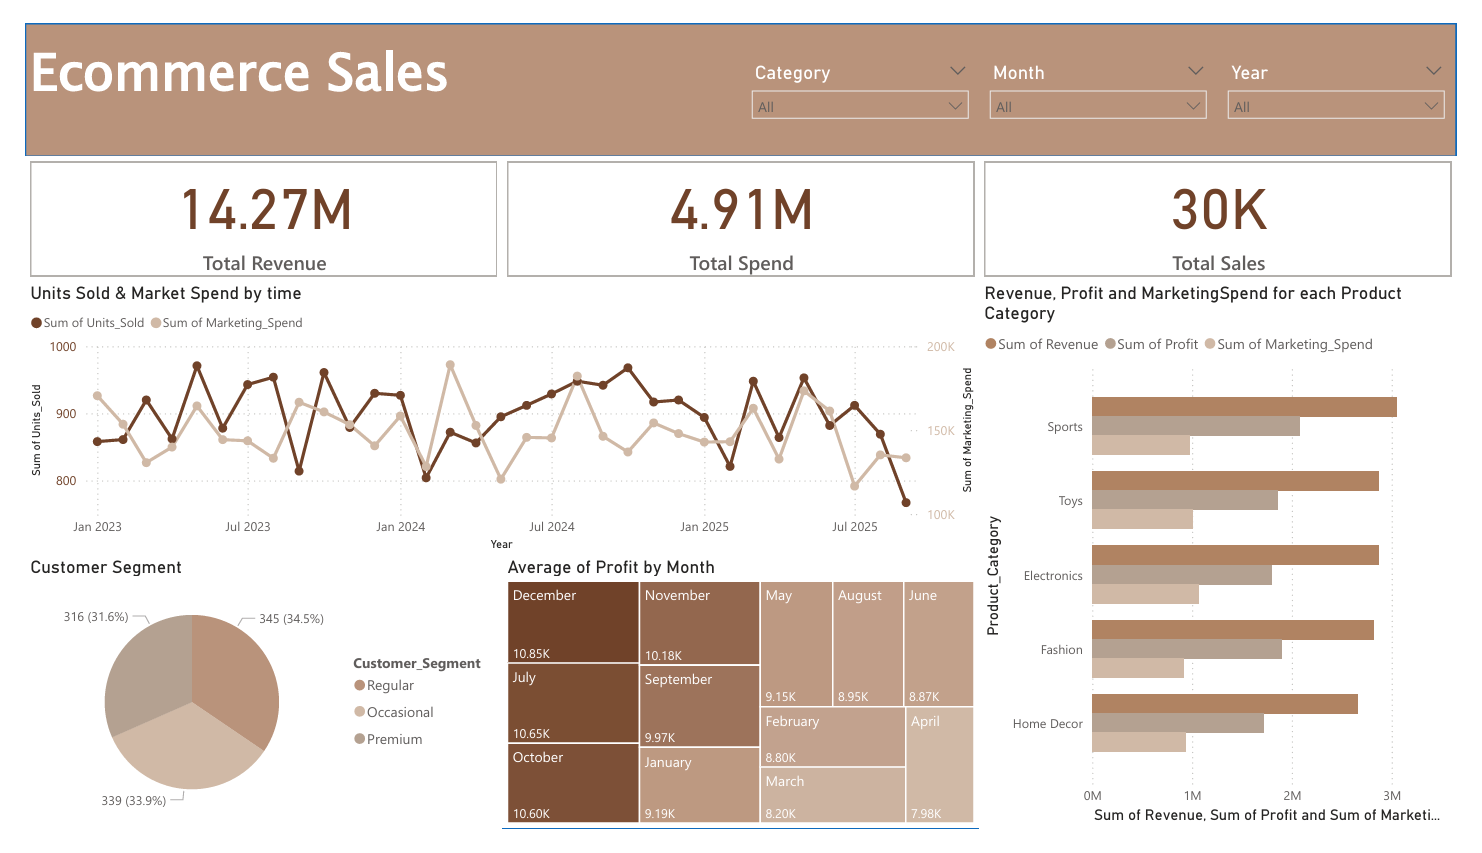

Layout of this report page (visuals, bound fields, positions):
{"tool":"powerbi","page":{"name":"Page 1","canvas":[1366,768],"ordinal":0},"visuals":[{"type":"shape","box":[0,0,1365.4,127.4],"z":0},{"type":"textbox","box":[0,5.3,422,116.8],"z":1000},{"type":"shape","box":[0,127.4,455.1,119.4],"z":2000},{"type":"shape","box":[455.1,127.4,455.1,119.4],"z":3000},{"type":"shape","box":[910.2,127.4,455.1,119.4],"z":4000},{"type":"shape","box":[910.2,246.8,455.1,521.5],"z":6000},{"type":"shape","box":[455.1,508.2,455.1,260.1],"z":7000},{"type":"cardVisual","fields":{"Data":["Ecommerce_Sales_Prediction_Dataset_Clean.Total Revenue"]},"box":[0,127.4,455.1,119.4],"z":8000},{"type":"cardVisual","fields":{"Data":["Ecommerce_Sales_Prediction_Dataset_Clean.Total Spend"]},"box":[455.1,127.4,455.1,119.4],"z":9000},{"type":"cardVisual","fields":{"Data":["Ecommerce_Sales_Prediction_Dataset_Clean.Total Sales"]},"box":[910.2,127.4,455.1,119.4],"z":10000},{"type":"slicer","fields":{"Values":["Ecommerce_Sales_Prediction_Dataset_Clean.Month Name"]},"box":[910.2,30.5,226.9,66.3],"z":11000},{"type":"slicer","fields":{"Values":["Ecommerce_Sales_Prediction_Dataset_Clean.Product_Category"]},"box":[683.3,30.5,226.9,66.3],"z":12000},{"type":"slicer","fields":{"Values":["Ecommerce_Sales_Prediction_Dataset_Clean.Year"]},"box":[1137.1,30.5,226.9,66.3],"z":13000},{"type":"clusteredBarChart","title":" Revenue, Profit and MarketingSpend for each Product Category","fields":{"Category":["Ecommerce_Sales_Prediction_Dataset_Clean.Product_Category"],"Y":["Sum(Ecommerce_Sales_Prediction_Dataset_Clean.Revenue)","Sum(Ecommerce_Sales_Prediction_Dataset_Clean.Profit)","Sum(Ecommerce_Sales_Prediction_Dataset_Clean.Marketing_Spend)"]},"box":[910.2,246.8,455.1,521.5],"z":14000},{"type":"pieChart","title":" Customer Segment ","fields":{"Category":["Ecommerce_Sales_Prediction_Dataset_Clean.Customer_Segment"],"Y":["CountNonNull(Ecommerce_Sales_Prediction_Dataset_Clean.Customer_Segment)"]},"box":[0,508.2,455.1,260.1],"z":15000},{"type":"lineChart","title":"Units Sold & Market Spend by time","fields":{"Y":["Sum(Ecommerce_Sales_Prediction_Dataset_Clean.Units_Sold)"],"Category":["Ecommerce_Sales_Prediction_Dataset_Clean.Month_Year.Variation.Date Hierarchy.Year","Ecommerce_Sales_Prediction_Dataset_Clean.Month_Year.Variation.Date Hierarchy.Quarter","Ecommerce_Sales_Prediction_Dataset_Clean.Month_Year.Variation.Date Hierarchy.Month","Ecommerce_Sales_Prediction_Dataset_Clean.Month_Year.Variation.Date Hierarchy.Day"],"Y2":["Sum(Ecommerce_Sales_Prediction_Dataset_Clean.Marketing_Spend)"]},"box":[0,246.8,910.2,261.4],"z":16000},{"type":"treemap","title":"Average of Profit by Month","fields":{"Group":["Ecommerce_Sales_Prediction_Dataset_Clean.Month Name"],"Values":["Avg(Ecommerce_Sales_Prediction_Dataset_Clean.Profit)"]},"box":[455.1,508.2,455.1,260.1],"z":17000}]}

Visuals, with their boxes in screenshot pixels (x1, y1, x2, y2), scaled from the page's 1366x768 canvas onto the 1482x853 screenshot:
shape: {"x1": 0, "y1": 0, "x2": 1481, "y2": 142}
textbox: {"x1": 0, "y1": 6, "x2": 458, "y2": 136}
shape: {"x1": 0, "y1": 142, "x2": 494, "y2": 274}
shape: {"x1": 494, "y1": 142, "x2": 987, "y2": 274}
shape: {"x1": 987, "y1": 142, "x2": 1481, "y2": 274}
shape: {"x1": 987, "y1": 274, "x2": 1481, "y2": 852}
shape: {"x1": 494, "y1": 564, "x2": 987, "y2": 852}
cardVisual - Ecommerce_Sales_Prediction_Dataset_Clean.Total Revenue: {"x1": 0, "y1": 142, "x2": 494, "y2": 274}
cardVisual - Ecommerce_Sales_Prediction_Dataset_Clean.Total Spend: {"x1": 494, "y1": 142, "x2": 987, "y2": 274}
cardVisual - Ecommerce_Sales_Prediction_Dataset_Clean.Total Sales: {"x1": 987, "y1": 142, "x2": 1481, "y2": 274}
slicer - Ecommerce_Sales_Prediction_Dataset_Clean.Month Name: {"x1": 987, "y1": 34, "x2": 1234, "y2": 108}
slicer - Ecommerce_Sales_Prediction_Dataset_Clean.Product_Category: {"x1": 741, "y1": 34, "x2": 987, "y2": 108}
slicer - Ecommerce_Sales_Prediction_Dataset_Clean.Year: {"x1": 1234, "y1": 34, "x2": 1480, "y2": 108}
" Revenue, Profit and MarketingSpend for each Product Category" clusteredBarChart: {"x1": 987, "y1": 274, "x2": 1481, "y2": 852}
" Customer Segment " pieChart: {"x1": 0, "y1": 564, "x2": 494, "y2": 852}
"Units Sold & Market Spend by time" lineChart: {"x1": 0, "y1": 274, "x2": 987, "y2": 564}
"Average of Profit by Month" treemap: {"x1": 494, "y1": 564, "x2": 987, "y2": 852}
